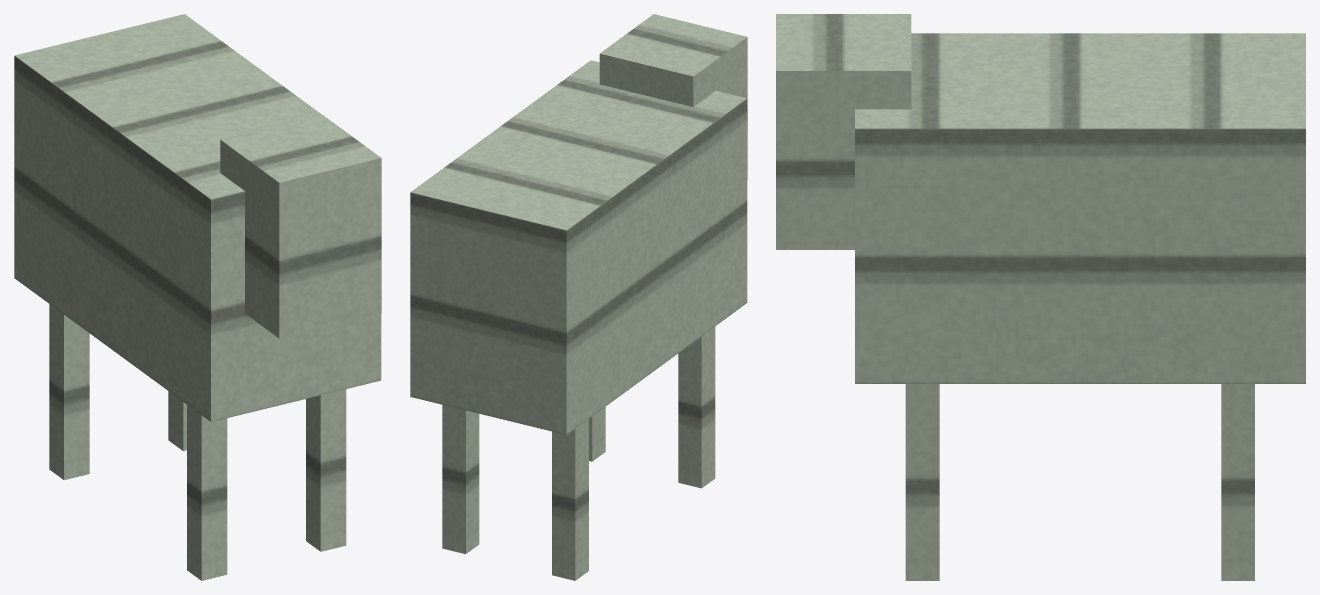
Rendered from animal_cat.glb.
3 renders of one model, left to right at view 1: azimuth 30°, elevation 25°; view 2: azimuth 150°, elevation 25°; view 3: azimuth 270°, elevation 25°, orthographic. The views are drawn at different scales.
Parts seen in each view (by area): view 1: animal_cat-col; view 2: animal_cat-col; view 3: animal_cat-col.
Part boxes in pixels (box(x1,y1,x2,y2)): animal_cat-col: box(14, 14, 381, 580); animal_cat-col: box(410, 14, 747, 580); animal_cat-col: box(776, 14, 1305, 580).
Bounding box in the file's own units: 0.2 × 0.4875 × 0.47.
Materials: 1 (1 with a texture image).
